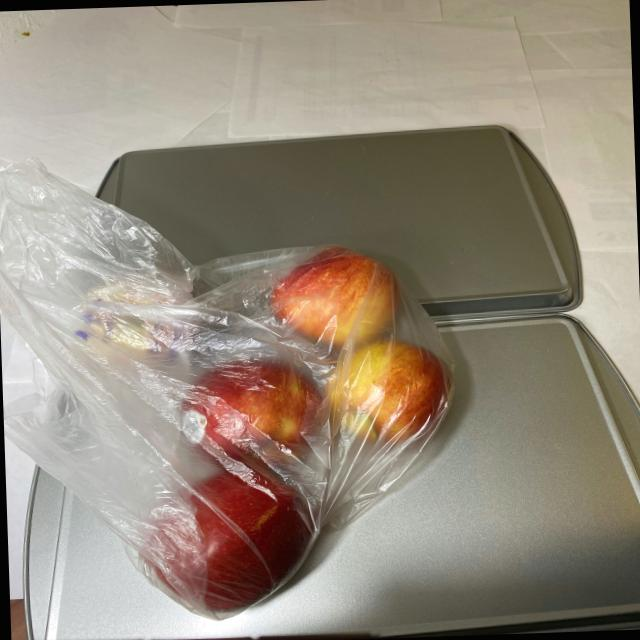apple: (71, 229, 467, 611)
